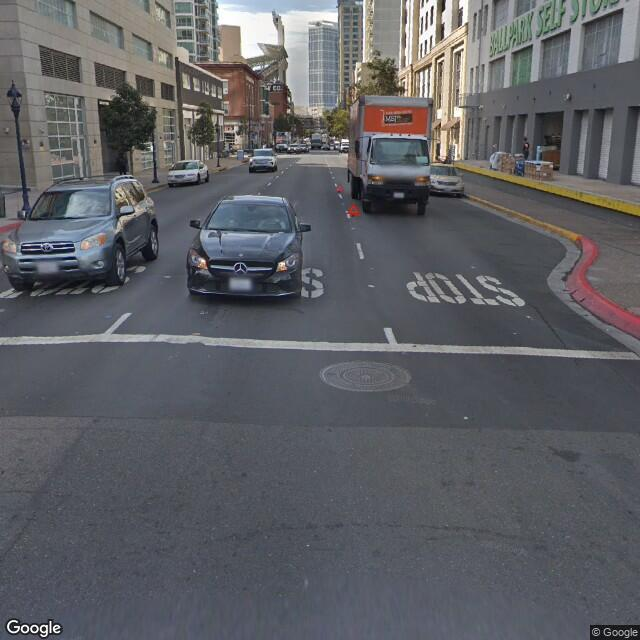road_line: (351, 239, 401, 353)
window: (581, 18, 627, 70)
